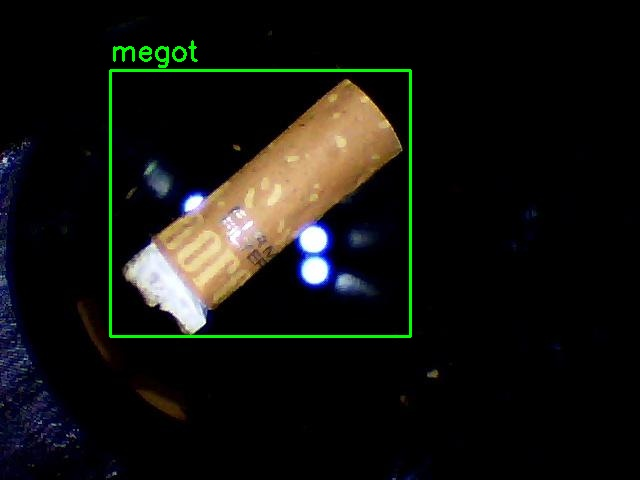megot: (110, 70, 410, 336)
